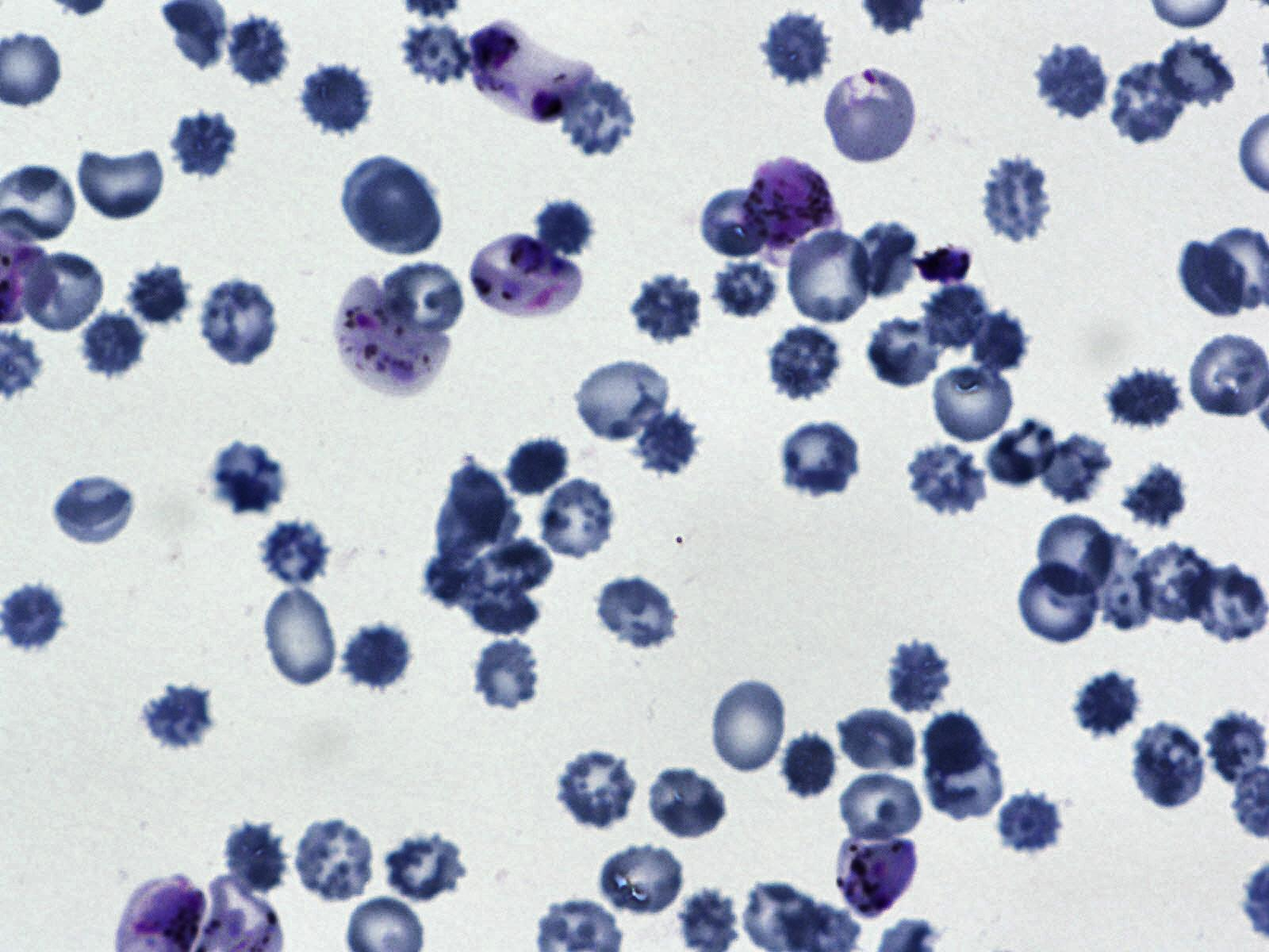Infected: (332, 277, 451, 392), (470, 20, 595, 126), (744, 155, 842, 252), (472, 232, 578, 320), (836, 829, 920, 918), (114, 873, 206, 952)
Uninfected: (823, 59, 920, 166), (345, 156, 440, 255), (786, 229, 879, 329), (572, 357, 670, 443), (710, 676, 790, 777), (259, 590, 337, 690), (17, 248, 106, 334), (289, 819, 381, 902), (930, 357, 1018, 443), (597, 840, 689, 921), (374, 259, 466, 340), (549, 75, 637, 159), (551, 748, 641, 830), (1077, 534, 1150, 633), (1018, 559, 1101, 646), (1037, 512, 1121, 597), (198, 282, 278, 371), (591, 572, 679, 652), (535, 478, 621, 559), (903, 440, 992, 518), (978, 155, 1056, 242), (838, 770, 929, 844), (1111, 62, 1192, 144), (1136, 536, 1215, 620), (1131, 724, 1208, 810), (643, 763, 729, 840), (1172, 235, 1248, 322), (53, 471, 138, 548), (836, 704, 921, 781), (779, 420, 862, 497), (75, 148, 162, 221), (761, 324, 838, 405), (470, 634, 548, 713), (922, 747, 1003, 823), (1030, 44, 1110, 120), (1190, 565, 1267, 643), (1156, 33, 1236, 108), (861, 314, 945, 385), (382, 835, 466, 906), (138, 682, 219, 754), (761, 6, 831, 86), (75, 303, 148, 379), (921, 282, 995, 355), (209, 444, 284, 516), (293, 63, 369, 134), (225, 14, 295, 90), (847, 220, 917, 296), (693, 190, 774, 255), (993, 788, 1068, 858), (170, 109, 240, 183), (1037, 435, 1113, 501), (217, 823, 285, 895), (631, 274, 704, 341), (1208, 709, 1269, 788), (617, 413, 701, 470), (343, 622, 413, 690), (987, 422, 1060, 487), (1106, 367, 1183, 428), (403, 17, 473, 84), (2, 582, 67, 653), (262, 520, 329, 586), (889, 640, 950, 712), (501, 437, 572, 498), (1077, 670, 1141, 737), (1120, 464, 1188, 527), (126, 263, 191, 328), (971, 305, 1028, 372), (922, 712, 981, 775), (531, 196, 595, 254), (715, 259, 775, 320), (782, 731, 836, 798)
